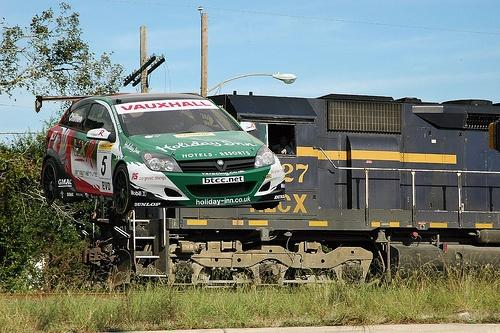tampered: (36, 94, 285, 216)
